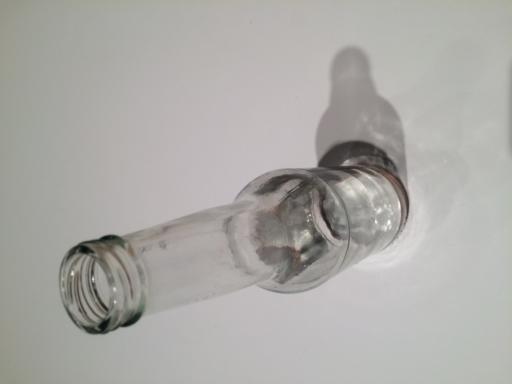botolkaca: (59, 164, 408, 335)
